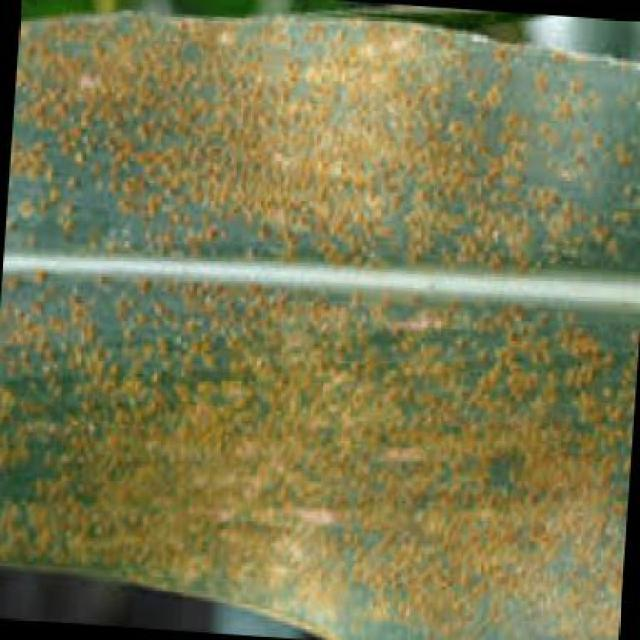Corn_Rust: (44, 23, 610, 615)
